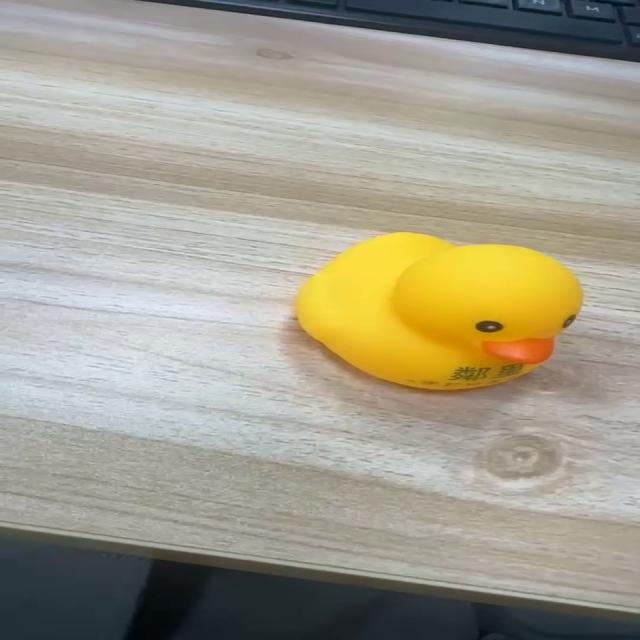yellow_duck: (290, 230, 584, 391)
